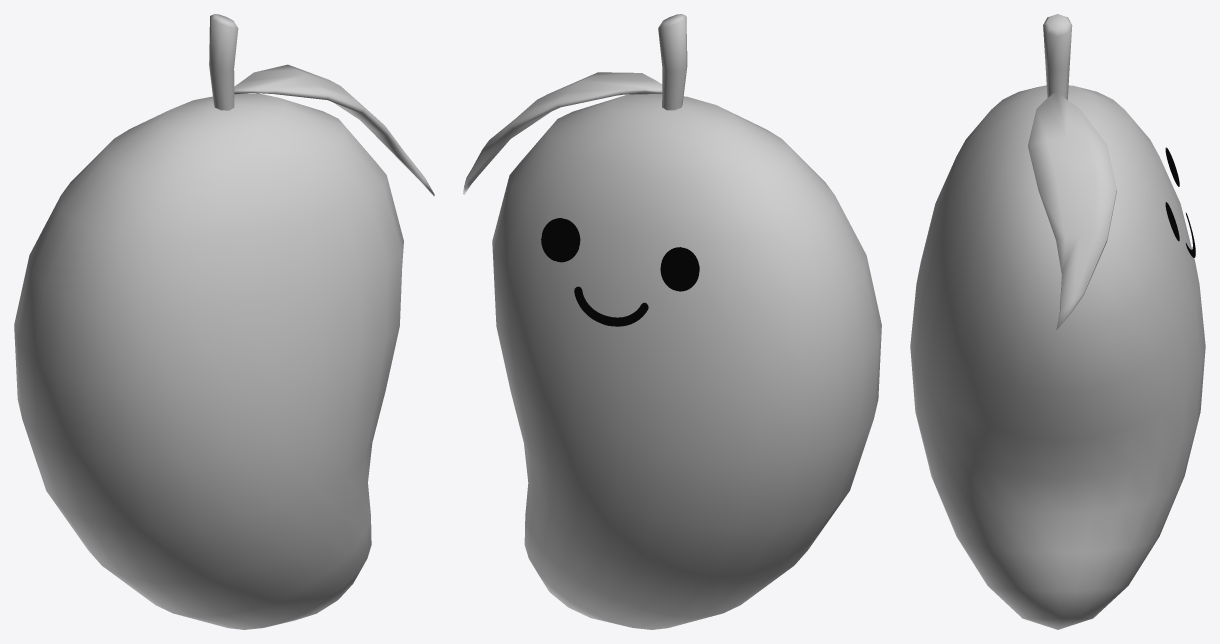
File: mango_smile.fbx
3 views of the same model, side by side, from view 1: azimuth 30°, elevation 25°; view 2: azimuth 150°, elevation 25°; view 3: azimuth 270°, elevation 25° (orthographic). The views are drawn at different scales.
Visible parts, largest first — view 1: mango_smile; view 2: mango_smile; view 3: mango_smile.
Boxes of the visible parts, <box> form: mango_smile: <box>14,14,434,629</box>; mango_smile: <box>463,14,881,629</box>; mango_smile: <box>910,14,1205,629</box>.
Bounding box in the file's own units: 86.95 × 128 × 59.31.
Materials: 2 (1 with a texture image).
